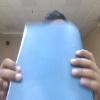notebook: (4, 20, 95, 99)
